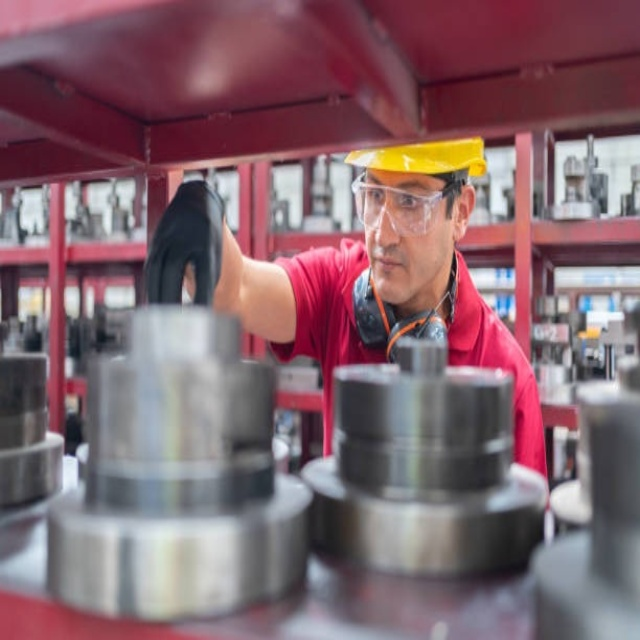Gafas: (350, 168, 464, 242)
Guantes: (142, 178, 225, 307)
Sin_mascara: (369, 246, 410, 300)
